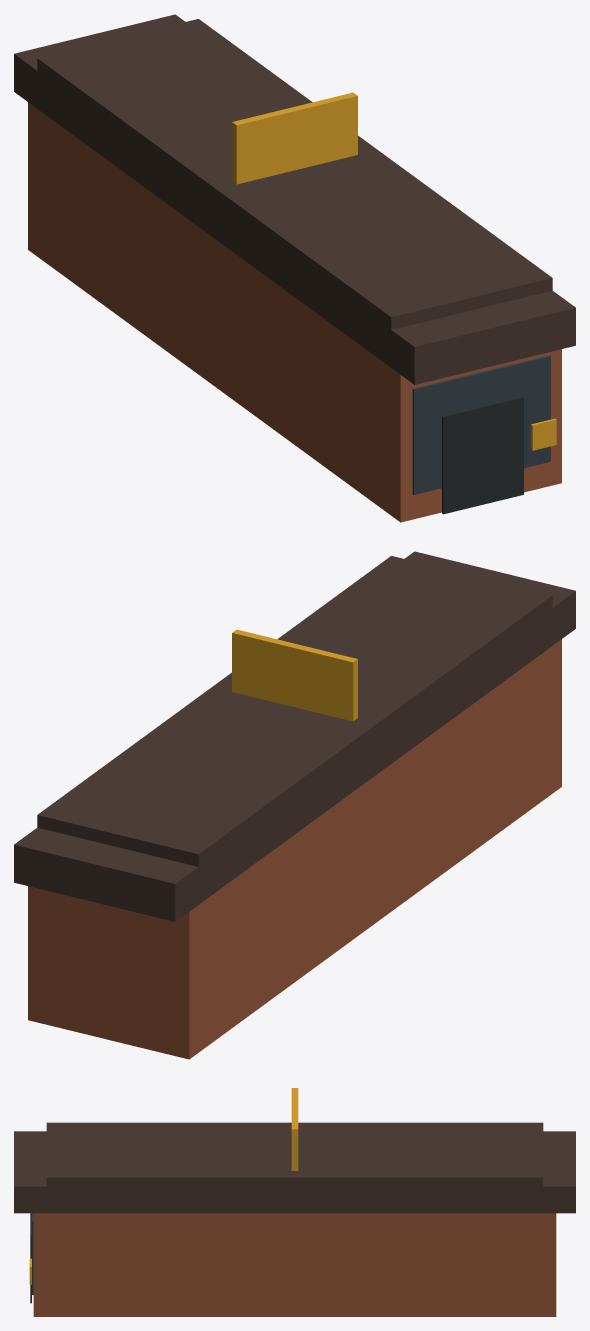
File: pavilion-door.glb
3 views of the same model, one above another, from view 1: azimuth 30°, elevation 25°; view 2: azimuth 150°, elevation 25°; view 3: azimuth 270°, elevation 25° (orthographic). The views are drawn at different scales.
Parts seen in each view (by area): view 1: pavilion-door; view 2: pavilion-door; view 3: pavilion-door.
Boxes of the visible parts, x1,y1,x2,y2 form: pavilion-door: (14,14,575,522); pavilion-door: (14,551,575,1059); pavilion-door: (14,1088,575,1316).
Size of the model in its own units: 4 by 6.1 by 17.2.
